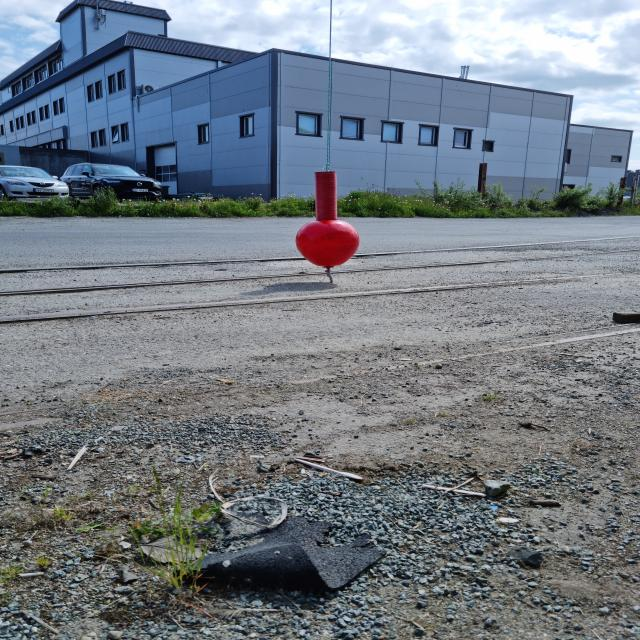red: (293, 170, 361, 265)
